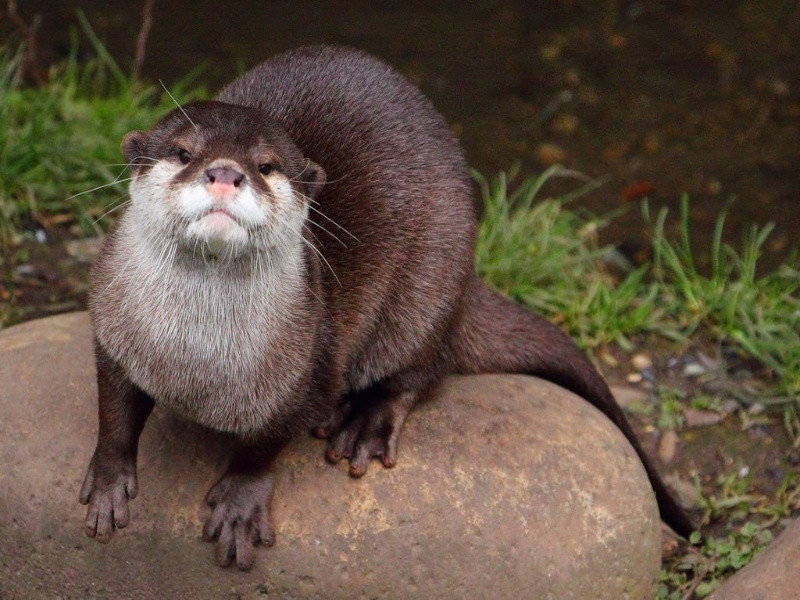minkish: (76, 36, 704, 573)
